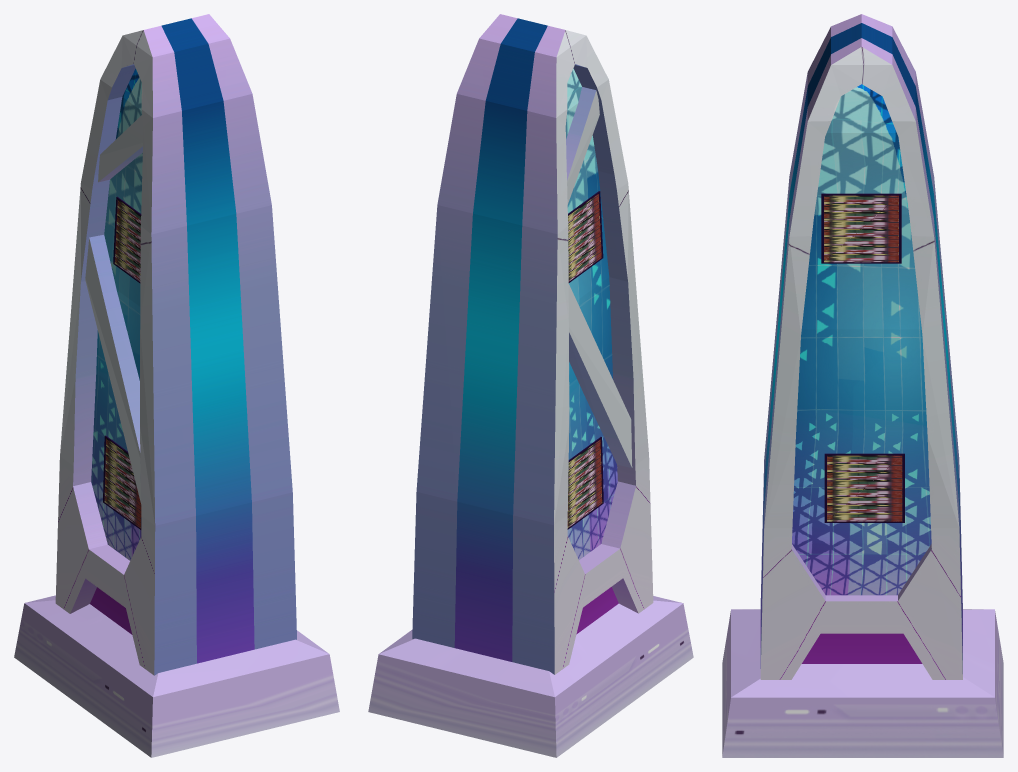
File: FUT0210009.fbx
3 views of the same model, side by side, from view 1: azimuth 30°, elevation 25°; view 2: azimuth 150°, elevation 25°; view 3: azimuth 270°, elevation 25° (orthographic). The views are drawn at different scales.
Parts seen in each view (by area): view 1: smFUT0210009; view 2: smFUT0210009; view 3: smFUT0210009.
Boxes of the visible parts, x1,y1,x2,y2 form: smFUT0210009: [14, 14, 339, 757]; smFUT0210009: [368, 14, 693, 757]; smFUT0210009: [722, 14, 1003, 757].
Size of the model in its own units: 1209 by 4067 by 1526.
Materials: 4 (4 with a texture image).
